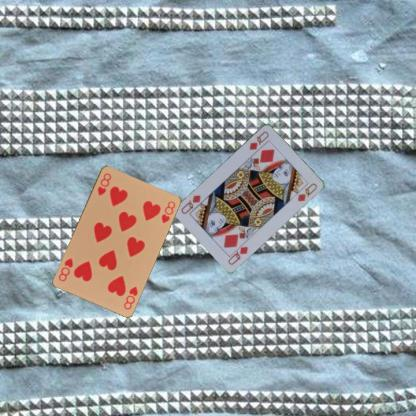8h: (121, 283, 138, 311), (95, 170, 112, 197)
Qd: (226, 238, 250, 266), (247, 128, 270, 151)
